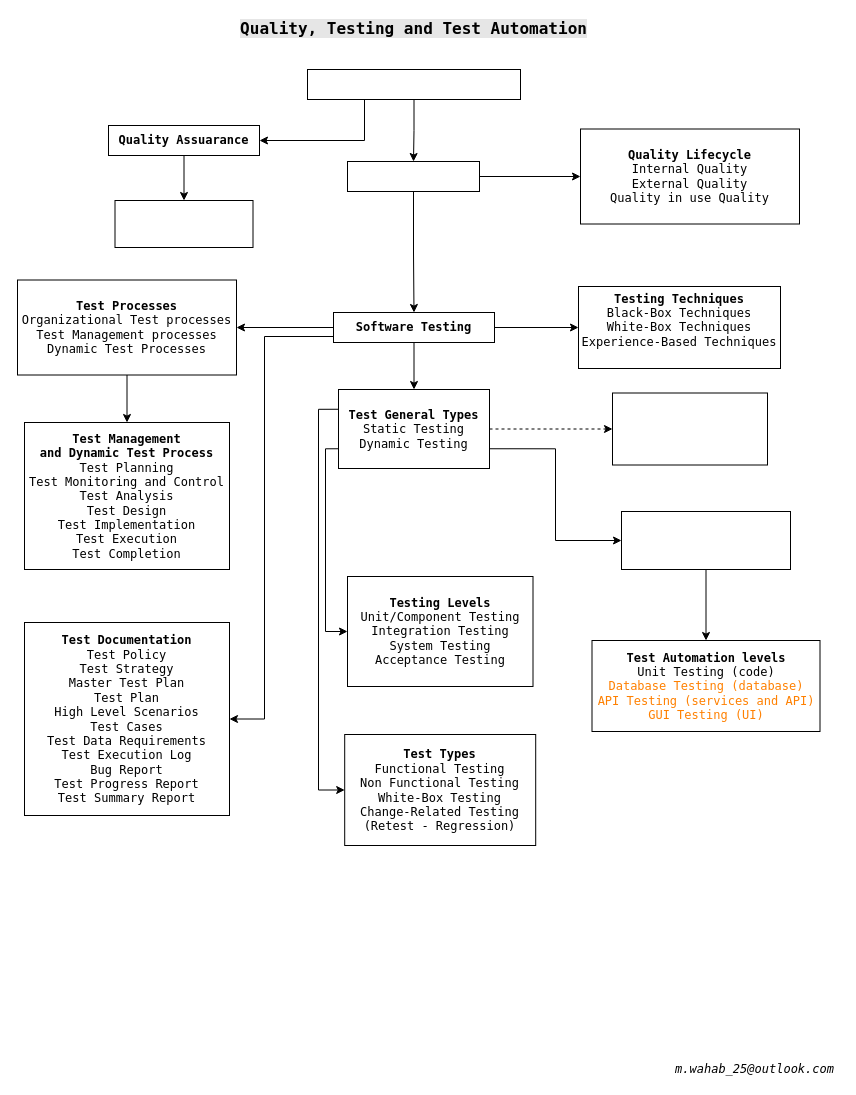
The diagram is 856 pixels wide and 1095 high, and some of its shapes have lost their labels. The shapes that lost their labels are listed below. From the top down, each one's centre as x and y in pixels, then its label:
At point (413, 84): "Software Quality Management".
At point (413, 176): "Quality Control".
At point (183, 224): "Auditing Process Quality".
At point (690, 428): "Maintenance Testing Modified Retire Migrate".
At point (705, 540): "Test Execution Types Manual Testing Test Automation".
